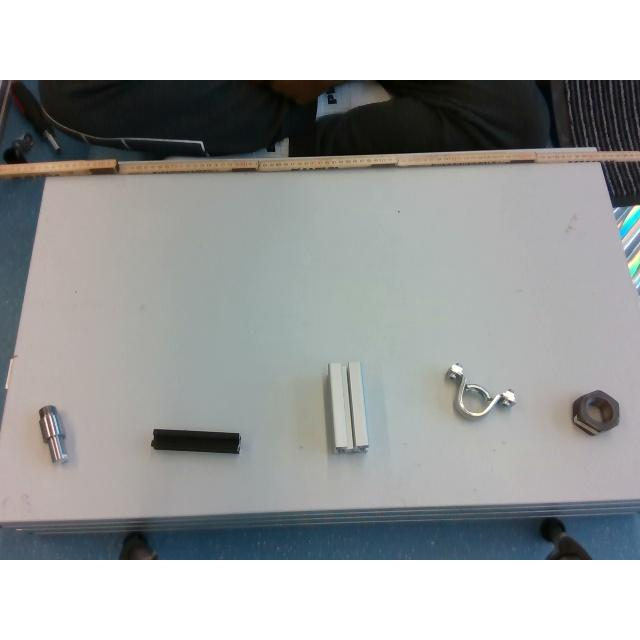Axis2: (40, 406, 68, 462)
F20_20_B: (152, 429, 240, 453)
Housing: (446, 362, 516, 418)
M30: (572, 390, 620, 434)
S40_40_G: (328, 361, 370, 455)
